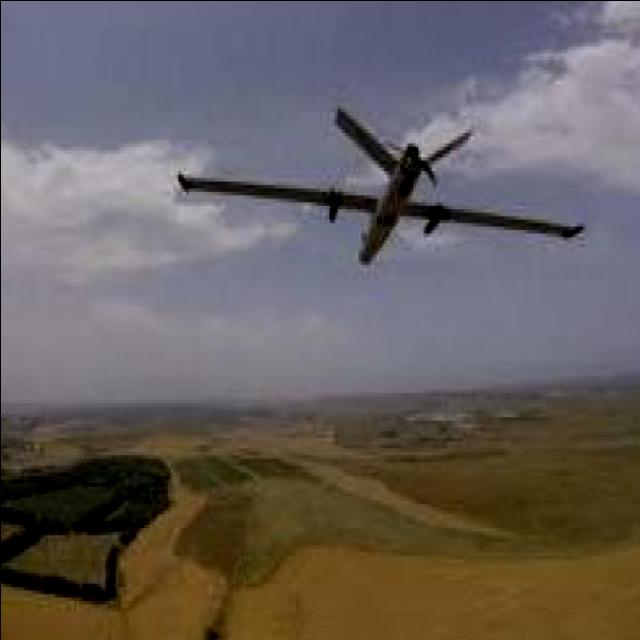plane: (172, 100, 585, 265)
